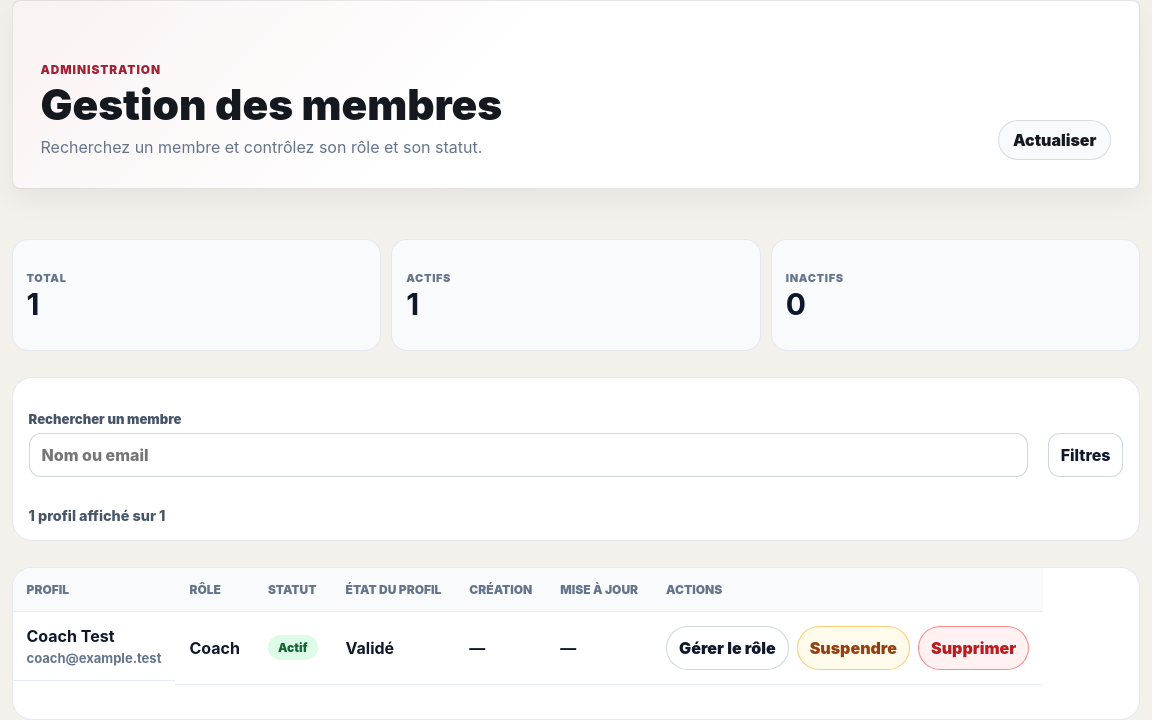
Test: rôles et statuts des membres › exige une confirmation forte et propose d’abord la suspension
Click the button "Supprimer".
click(974, 648)  # box [918,626,1029,670]
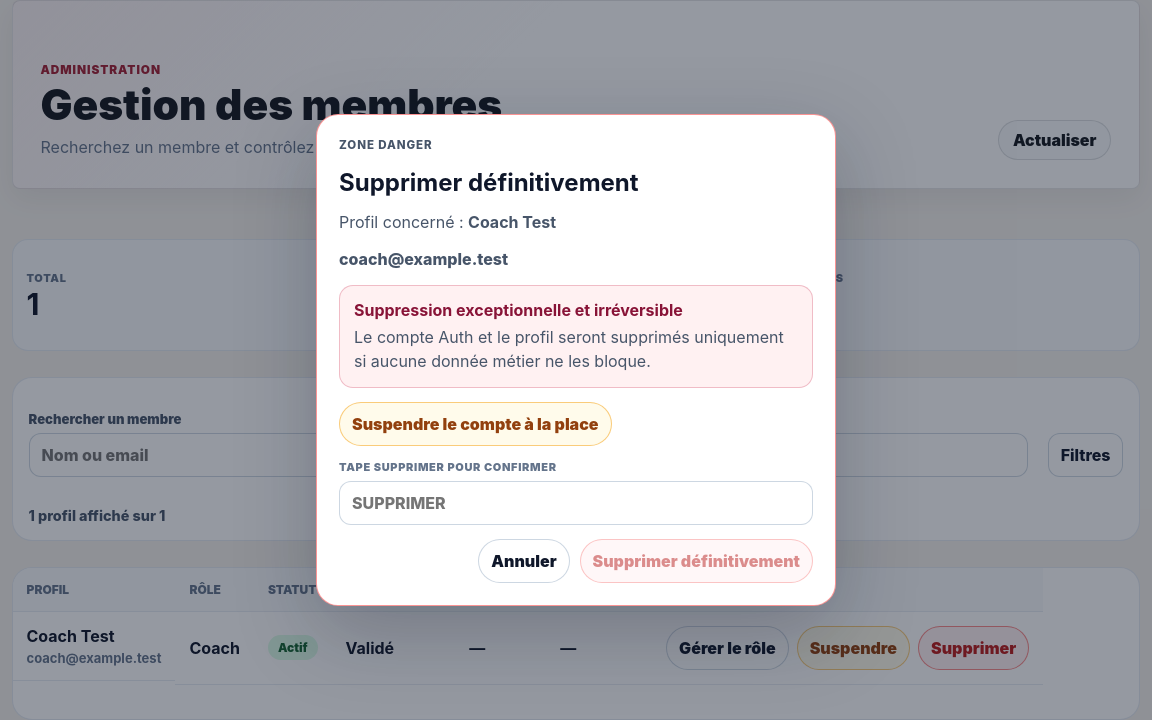
Expected: the text "Coach Test" is shown, [468,212,556,232]
Expected: the text "coach@example.test" is shown, [339,249,508,269]
Expected: the text "Suppression exceptionnelle et irréversible" is shown, [354,300,683,320]
Type "supprimer" into the field named "Confirmation de suppression définitive".
click(576, 503); type("supprimer")  # box [339,481,813,525]
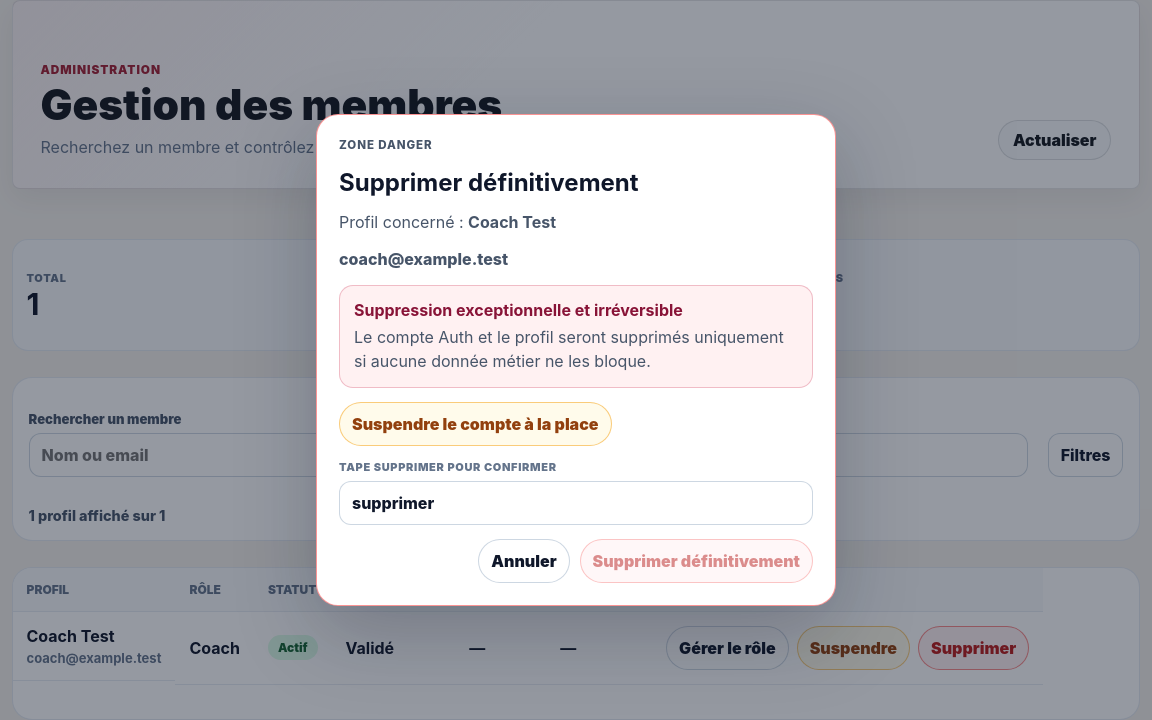
Expected: the button "Supprimer définitivement" is disabled, [580,539,813,583]
Replace the text in the field named "Confirmation de suppression définitive" with "SUPPRIMER" at (576, 503), box [339,481,813,525]
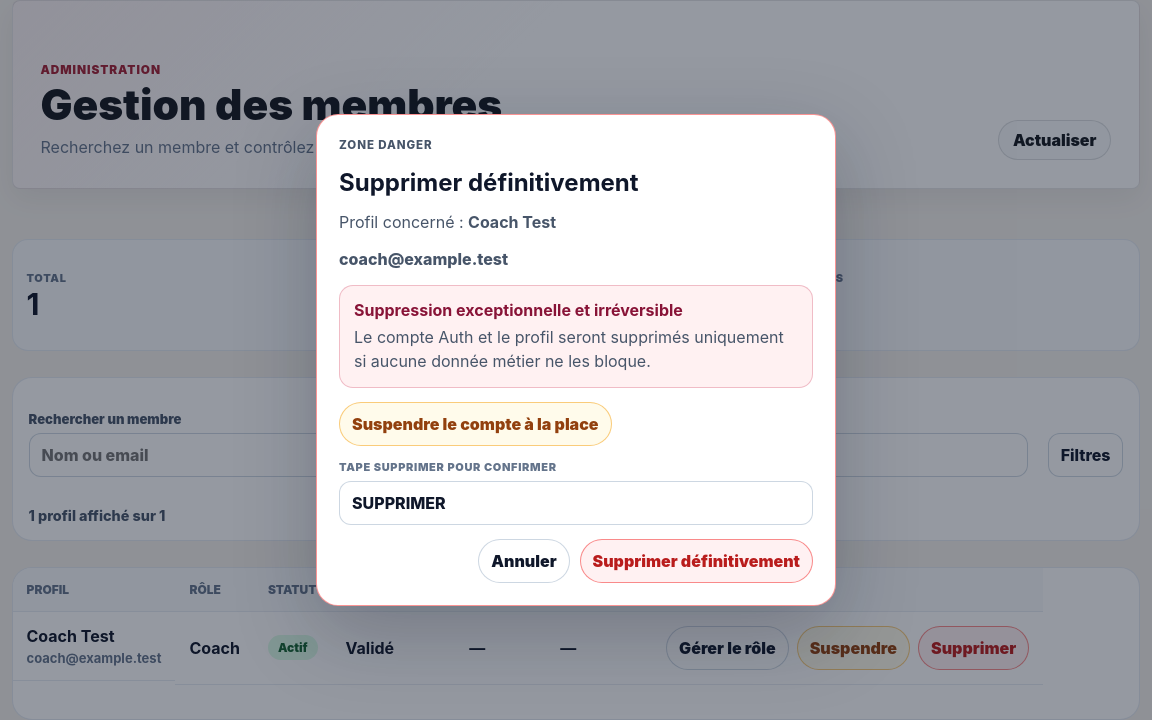
Expected: the button "Supprimer définitivement" is enabled, [580,539,813,583]
